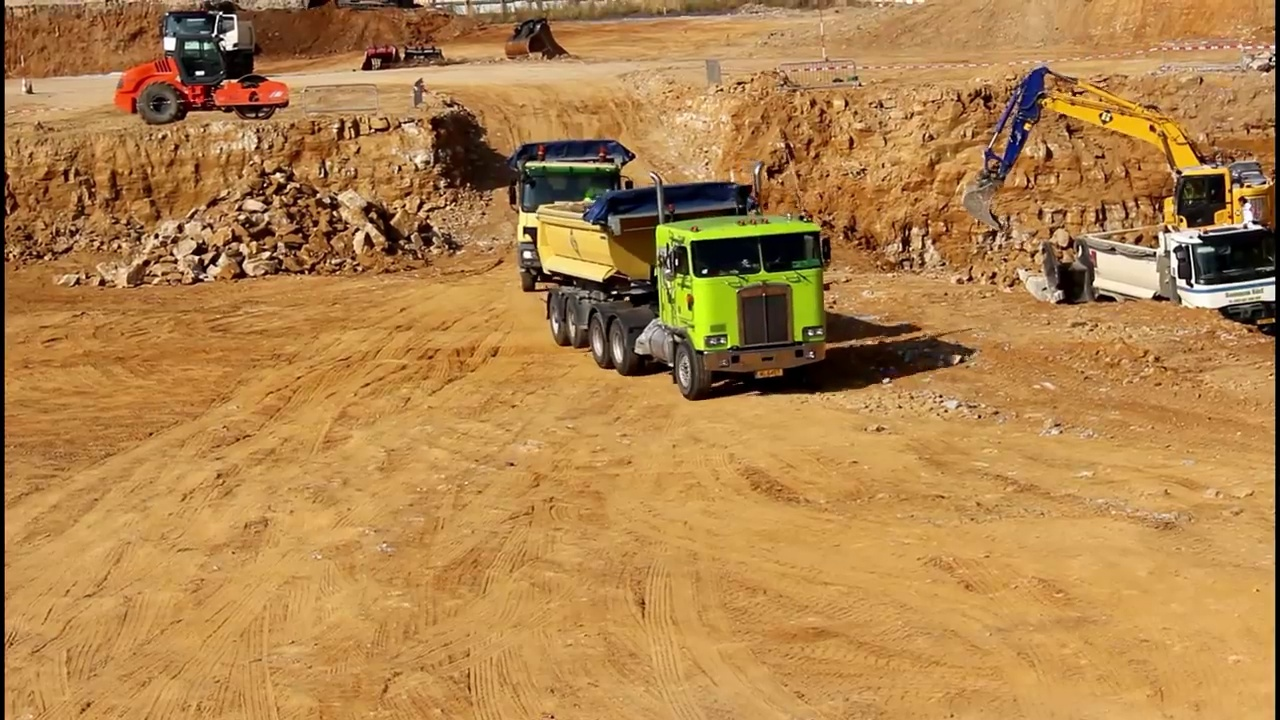compactor: (112, 33, 292, 124)
excavator: (956, 59, 1280, 307)
truck: (528, 161, 835, 402), (1073, 219, 1280, 365), (504, 130, 643, 302), (154, 5, 264, 88)
worker: (1231, 192, 1264, 238)
